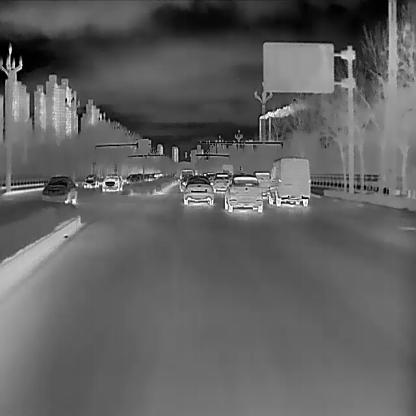car: (268, 155, 310, 206), (224, 174, 262, 214), (42, 174, 78, 206), (183, 178, 213, 206), (253, 169, 272, 197), (100, 172, 121, 191), (178, 173, 194, 192), (214, 172, 229, 190), (82, 172, 98, 188), (180, 167, 194, 182)
